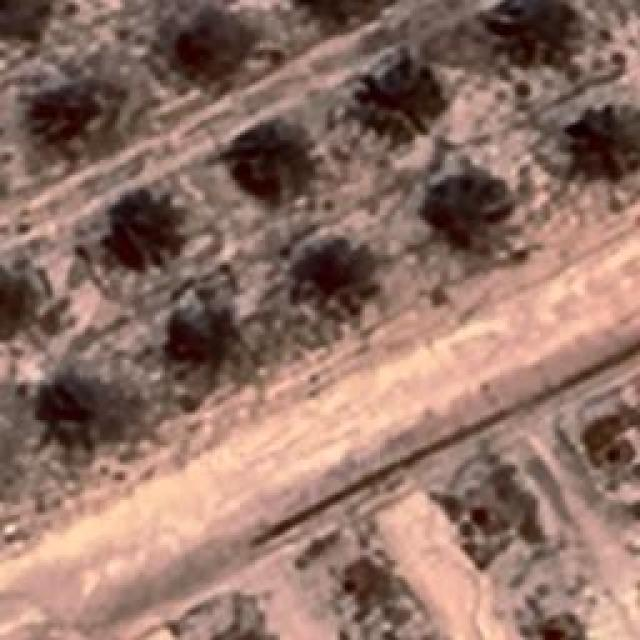PalmTree: (414, 165, 516, 253), (354, 58, 444, 148), (89, 14, 341, 46), (286, 234, 379, 318), (98, 182, 186, 270), (231, 124, 311, 212), (162, 302, 250, 380), (570, 95, 640, 175), (496, 2, 584, 62), (32, 82, 112, 146), (31, 384, 104, 448), (93, 46, 218, 70), (0, 263, 33, 340), (0, 0, 47, 35)
